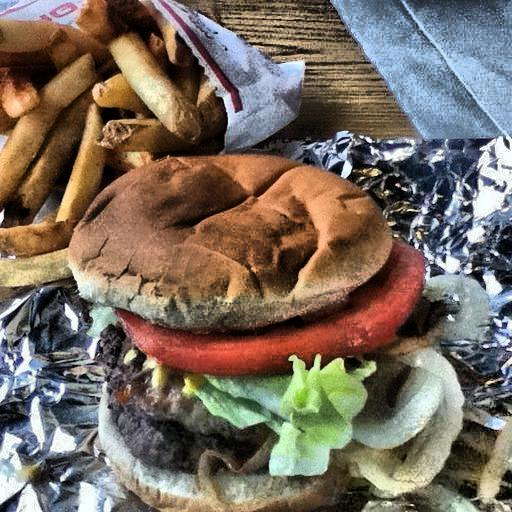burger: (75, 146, 438, 502)
